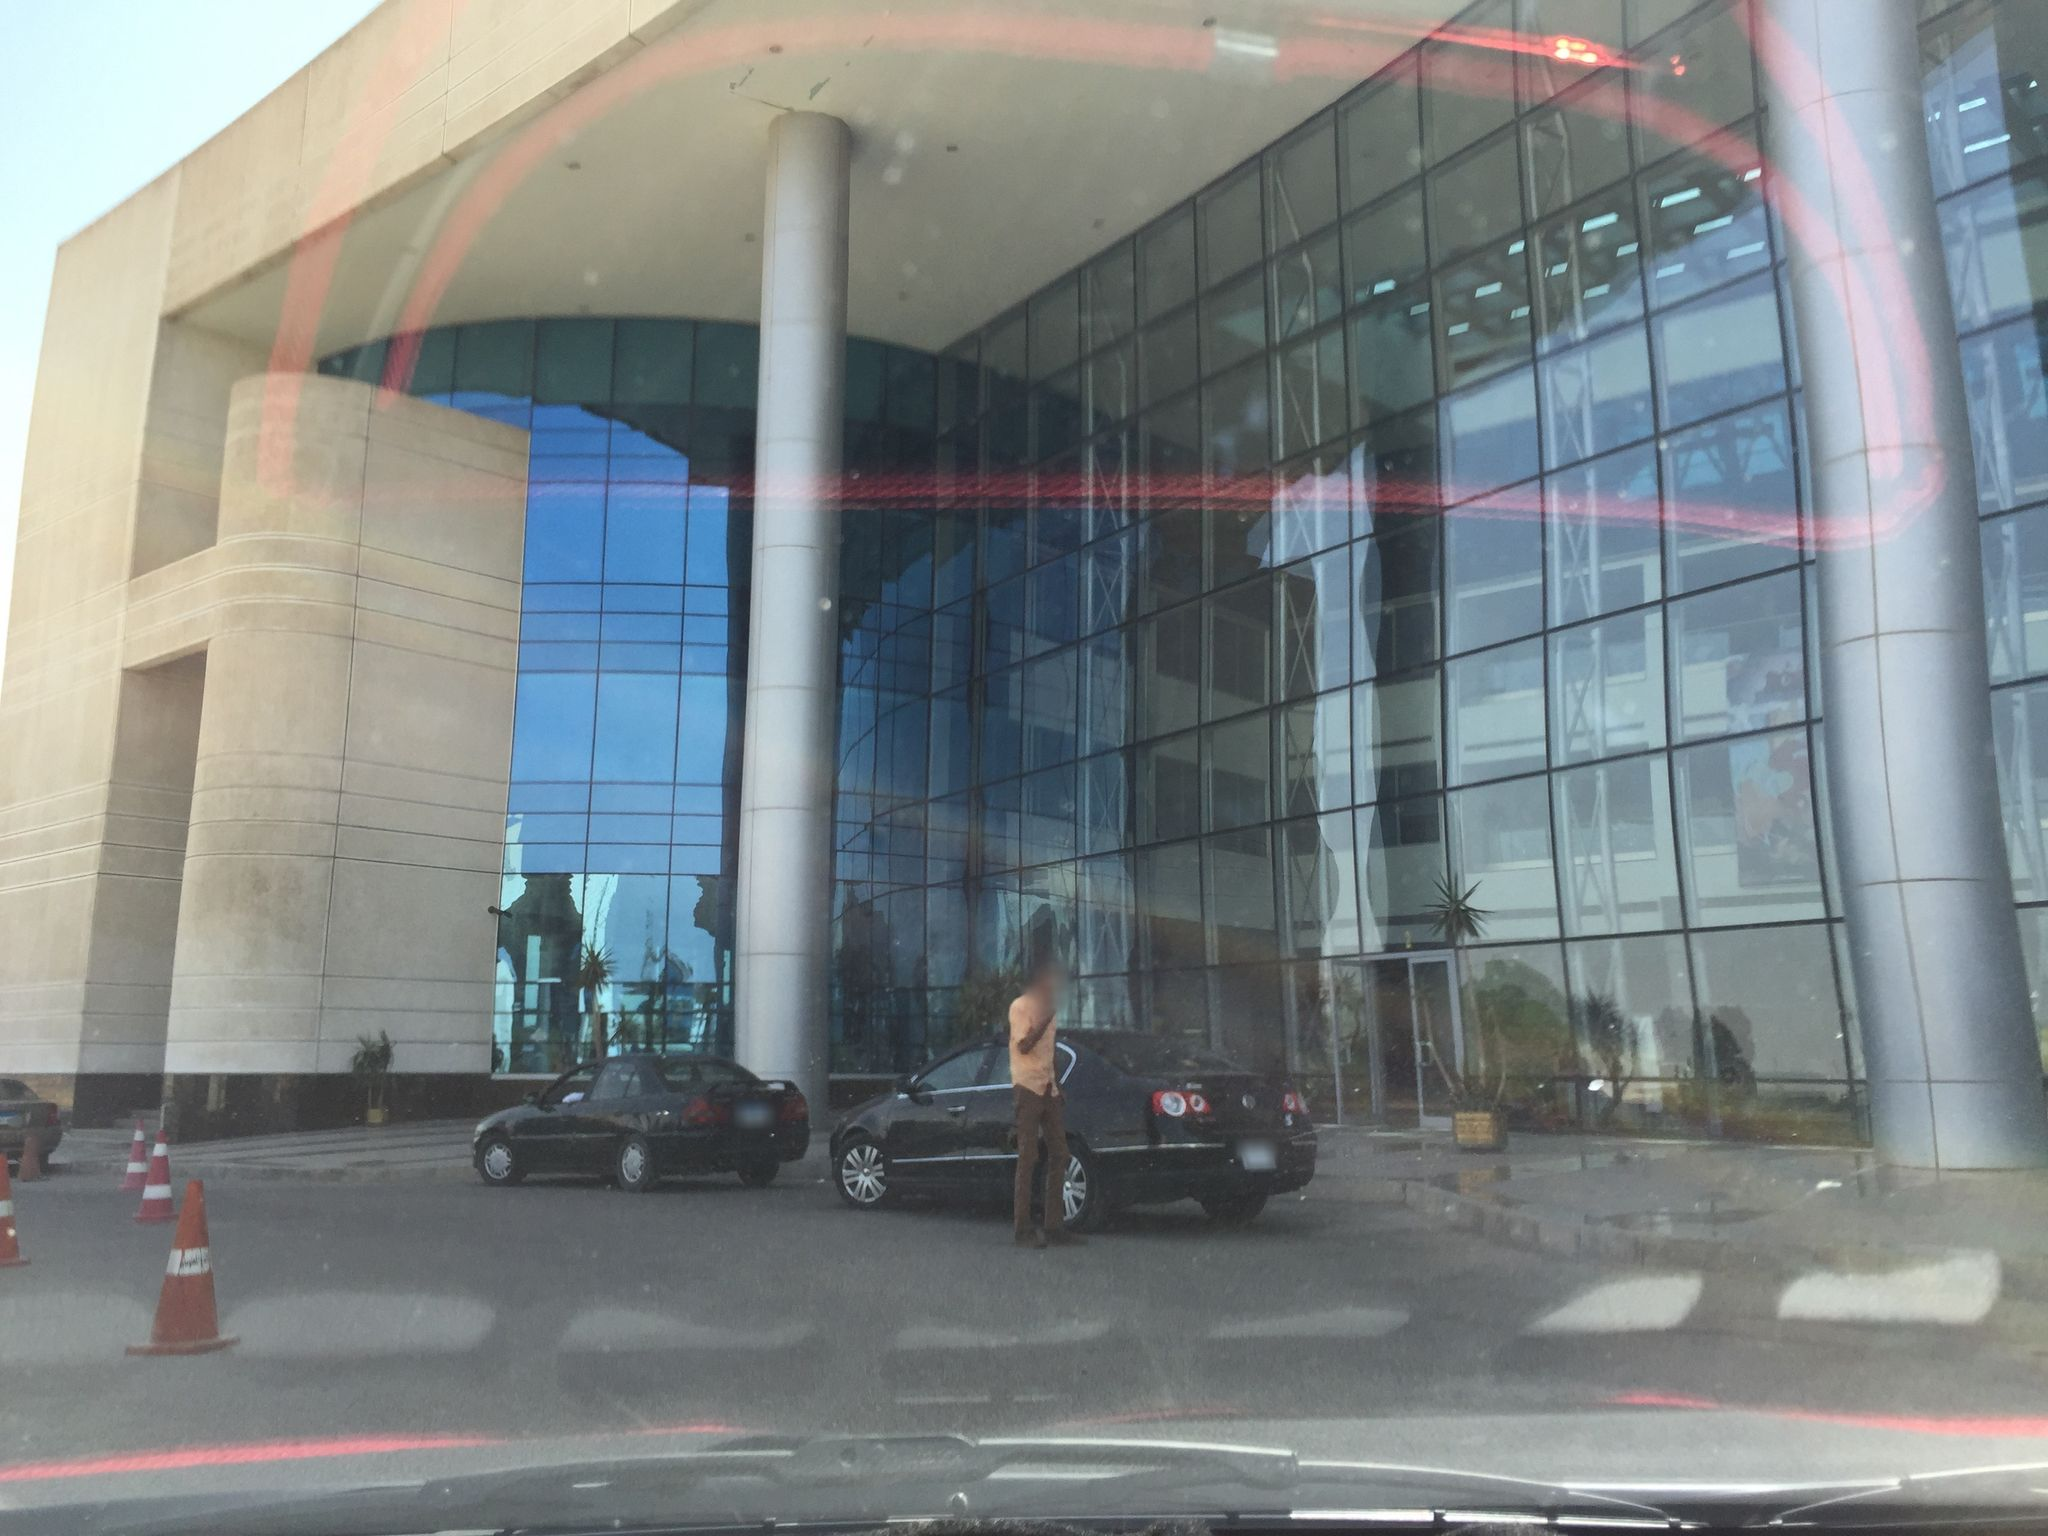car: (824, 1023, 1322, 1229), (469, 1050, 813, 1196), (0, 1078, 63, 1175)
